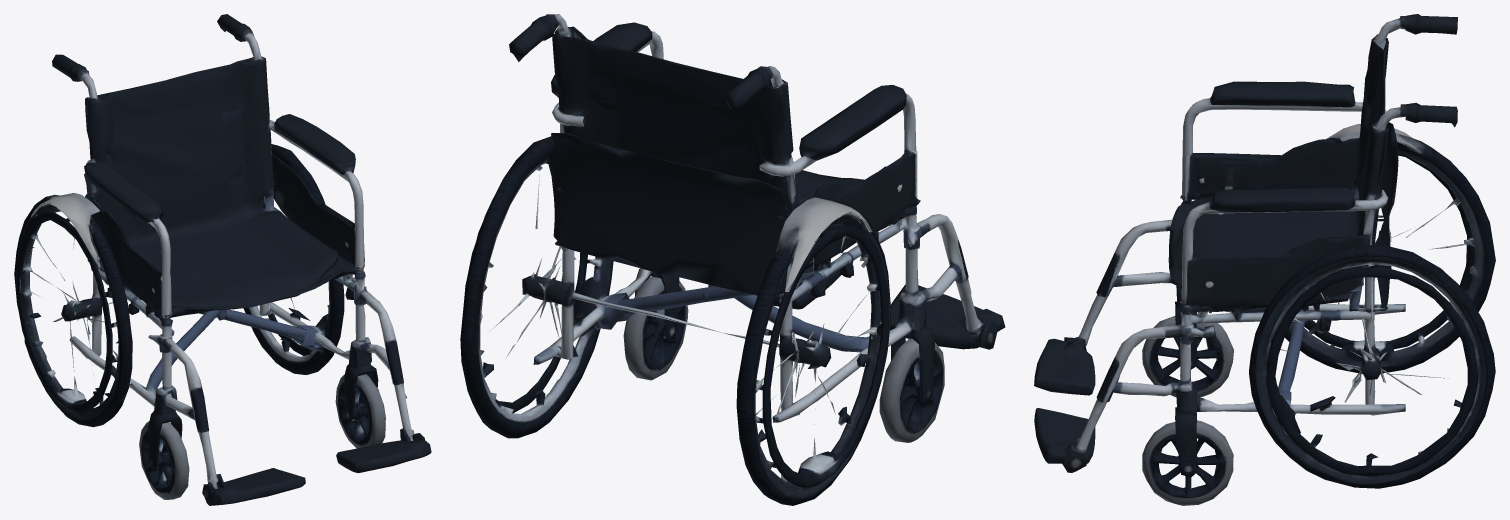
File: wheelchair.glb
3 views of the same model, side by side, from view 1: azimuth 30°, elevation 25°; view 2: azimuth 150°, elevation 25°; view 3: azimuth 270°, elevation 25° (orthographic). The views are drawn at different scales.
Visible parts, largest first — view 1: tripo_node_81bfb8d9-6022-4d98-8c3f-217a93e1f71f; view 2: tripo_node_81bfb8d9-6022-4d98-8c3f-217a93e1f71f; view 3: tripo_node_81bfb8d9-6022-4d98-8c3f-217a93e1f71f.
Boxes of the visible parts, box(x1,y1,x2,y2) form: tripo_node_81bfb8d9-6022-4d98-8c3f-217a93e1f71f: box(14, 14, 431, 505); tripo_node_81bfb8d9-6022-4d98-8c3f-217a93e1f71f: box(460, 14, 1005, 505); tripo_node_81bfb8d9-6022-4d98-8c3f-217a93e1f71f: box(1034, 14, 1495, 505).
Size of the model in its own units: 0.6668 by 0.9363 by 1.
Materials: 1 (1 with a texture image).
